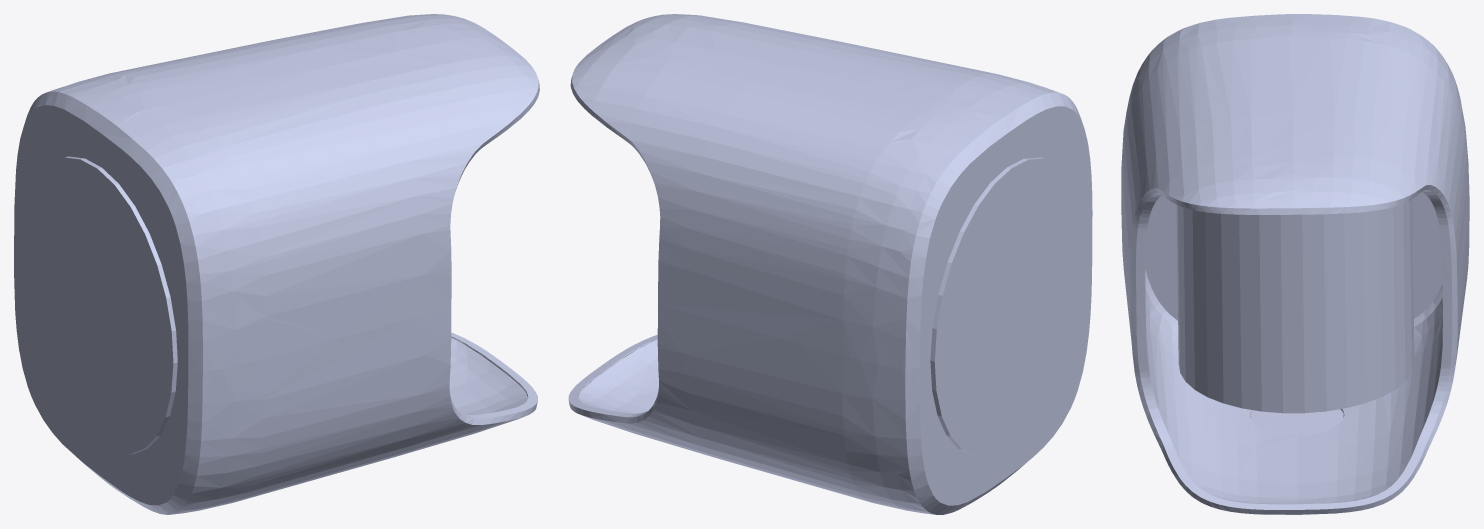
File: left_wrist_roll_link.dae
3 renders of one model, left to right at view 1: azimuth 30°, elevation 25°; view 2: azimuth 150°, elevation 25°; view 3: azimuth 270°, elevation 25°, orthographic. The views are drawn at different scales.
Parts seen in each view (by area): view 1: left_wrist_roll_link; view 2: left_wrist_roll_link; view 3: left_wrist_roll_link.
Part boxes in pixels (x1,y1,x2,y2): left_wrist_roll_link: [14, 14, 539, 514]; left_wrist_roll_link: [568, 14, 1092, 514]; left_wrist_roll_link: [1121, 14, 1469, 514].
Bounding box in the file's own units: 0.0931 × 0.081 × 0.0739.
